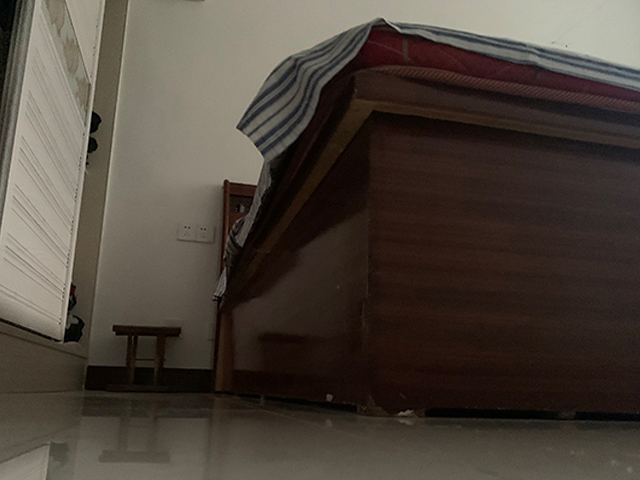bed: (210, 17, 639, 419)
cabinet: (1, 1, 133, 393)
stool: (105, 324, 182, 393)
